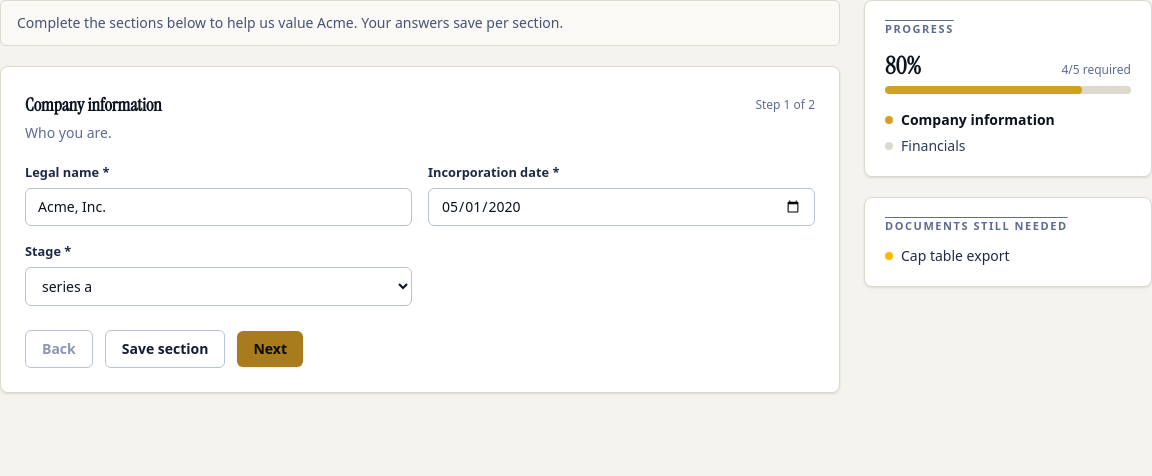
IntakeTab › the questionnaire › marks the required fields and carries the hint
The width and height of the screenshot is (1152, 476).
Check: the field labelled "Legal name *" is shown, box [25,188,412,226]
What coordinates should you click on to do the following:
click the button "Next"
I would click on:
 (270, 349)
Its box is [238,331,303,367].
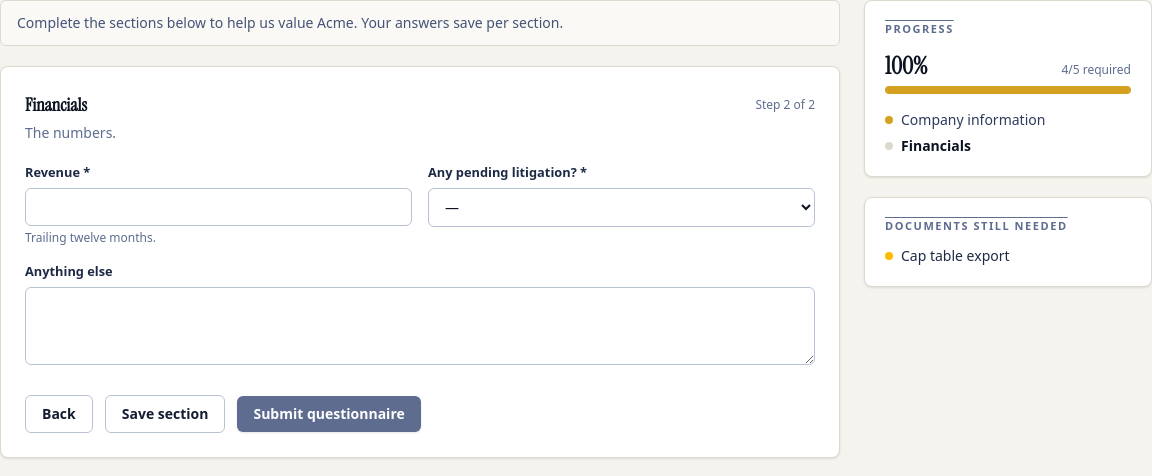
Check: the heading "Financials" is shown, box [25,91,87,119]
Check: the text "Trailing twelve months." is shown, box [25,229,156,246]
